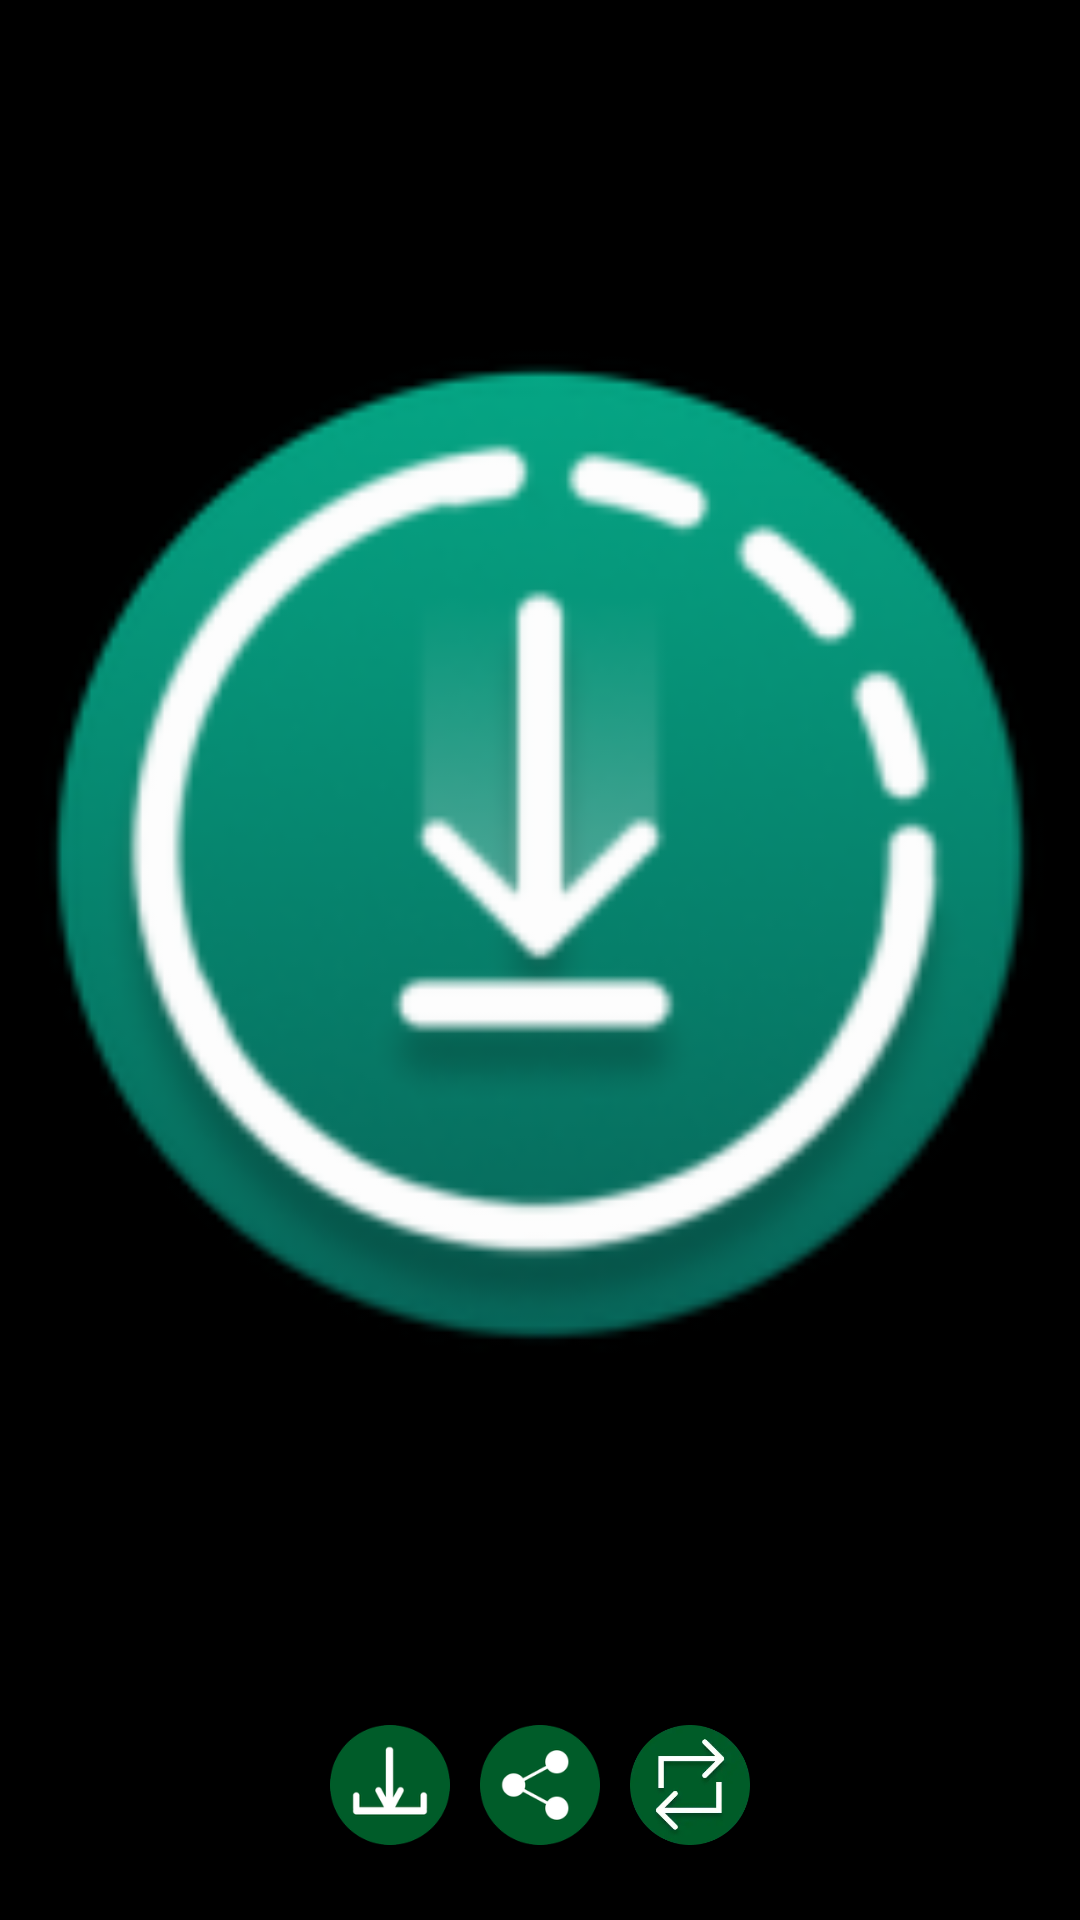

Icon click points for this 1080px x 1920px phone screenshot, format [x,y]:
download: [390,1785]
repost: [690,1785]
share: [540,1785]
